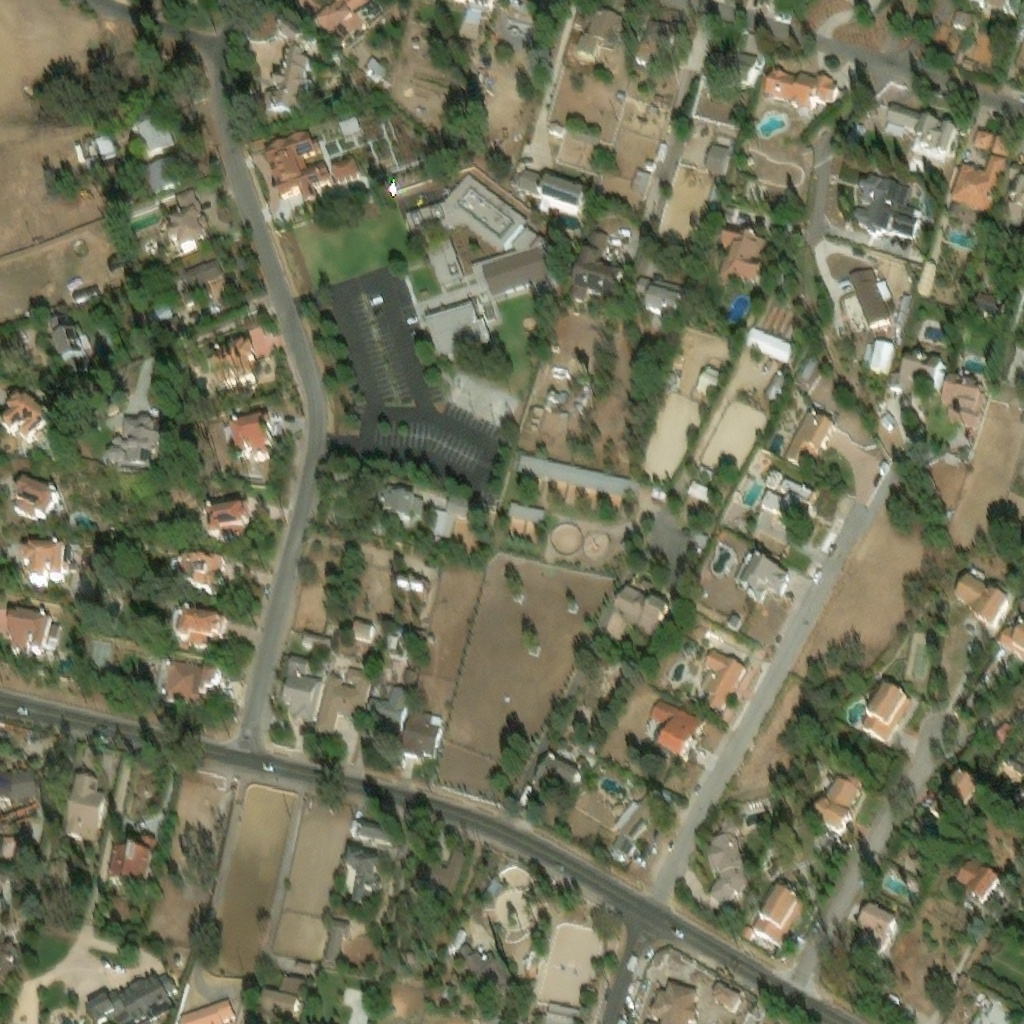0 no-damage: (403, 171, 526, 253), (471, 224, 556, 302), (264, 130, 333, 205), (87, 972, 181, 1023), (852, 170, 920, 235), (424, 298, 492, 360), (315, 666, 373, 734), (569, 245, 625, 311), (107, 415, 170, 472), (649, 696, 704, 760), (262, 46, 309, 119), (415, 847, 470, 909), (612, 788, 662, 856), (782, 408, 835, 471), (950, 155, 1006, 214), (157, 660, 220, 712), (716, 224, 770, 284), (860, 681, 913, 741), (462, 950, 519, 1005), (763, 66, 837, 108), (931, 767, 983, 825), (280, 655, 323, 725), (699, 647, 746, 711), (708, 837, 750, 908), (752, 886, 802, 945), (955, 572, 1009, 626), (168, 607, 230, 654), (849, 264, 892, 330), (941, 370, 988, 429), (890, 348, 947, 396), (888, 833, 942, 883), (63, 771, 105, 835), (372, 478, 425, 528), (734, 551, 790, 598), (856, 904, 901, 962), (312, 0, 370, 45), (0, 389, 50, 441), (760, 476, 815, 523), (46, 308, 88, 369), (171, 554, 229, 596), (106, 831, 155, 879), (9, 607, 60, 653), (742, 326, 800, 366), (647, 980, 700, 1023), (955, 859, 1002, 907), (913, 110, 963, 155), (345, 846, 382, 906), (206, 337, 255, 382), (538, 171, 588, 215), (636, 275, 685, 317), (205, 494, 249, 540), (534, 753, 580, 797), (402, 711, 443, 760), (23, 541, 69, 584), (181, 257, 224, 302), (168, 207, 213, 250), (14, 474, 56, 519), (366, 685, 409, 728), (230, 411, 269, 456), (637, 18, 671, 67), (135, 115, 174, 153), (319, 915, 348, 966), (614, 584, 647, 628), (179, 998, 237, 1023), (637, 596, 669, 640), (968, 24, 1002, 65), (587, 7, 625, 43), (825, 772, 860, 811), (811, 799, 851, 832), (129, 766, 161, 807), (0, 766, 37, 801), (1007, 733, 1023, 812), (257, 988, 298, 1018), (146, 158, 181, 193), (862, 340, 897, 373), (108, 886, 143, 918), (684, 477, 722, 506), (703, 52, 732, 89), (693, 364, 724, 397), (732, 52, 760, 88), (886, 100, 921, 128), (998, 622, 1023, 661), (954, 0, 1019, 15), (742, 31, 769, 67), (710, 980, 741, 1010), (1004, 161, 1023, 209), (507, 499, 545, 523), (704, 143, 732, 175), (709, 812, 743, 838), (89, 134, 120, 161), (274, 16, 305, 43), (764, 371, 790, 403), (515, 165, 543, 194), (330, 156, 360, 182), (974, 293, 1005, 318), (356, 819, 391, 841), (144, 296, 172, 322), (573, 32, 599, 60), (420, 0, 492, 10), (949, 203, 981, 225), (0, 942, 18, 980), (639, 247, 663, 275), (301, 631, 332, 652), (395, 575, 427, 595), (279, 974, 306, 997), (363, 55, 386, 82), (547, 1002, 584, 1018), (627, 164, 650, 188), (692, 463, 717, 485), (584, 225, 607, 248), (175, 187, 197, 209), (973, 128, 993, 151), (994, 719, 1013, 743), (484, 877, 506, 897), (992, 134, 1011, 156), (352, 621, 375, 639), (12, 834, 29, 858), (952, 8, 970, 29), (0, 831, 15, 856), (654, 787, 674, 805), (436, 983, 454, 1003), (167, 313, 183, 334), (775, 614, 791, 635), (455, 942, 473, 960), (545, 1013, 576, 1023), (881, 412, 898, 430), (766, 469, 782, 488), (404, 668, 418, 685), (713, 132, 732, 144), (727, 612, 741, 628), (961, 56, 975, 70), (75, 143, 85, 162), (553, 387, 567, 400), (741, 926, 754, 939), (388, 635, 399, 650), (944, 452, 957, 463), (86, 156, 100, 166), (640, 579, 651, 590), (543, 398, 552, 408), (576, 753, 584, 763), (532, 403, 542, 411), (559, 409, 569, 416), (658, 489, 666, 497), (650, 486, 658, 494)
4 un-classified: (118, 355, 136, 388), (107, 350, 125, 373), (619, 530, 636, 551)
